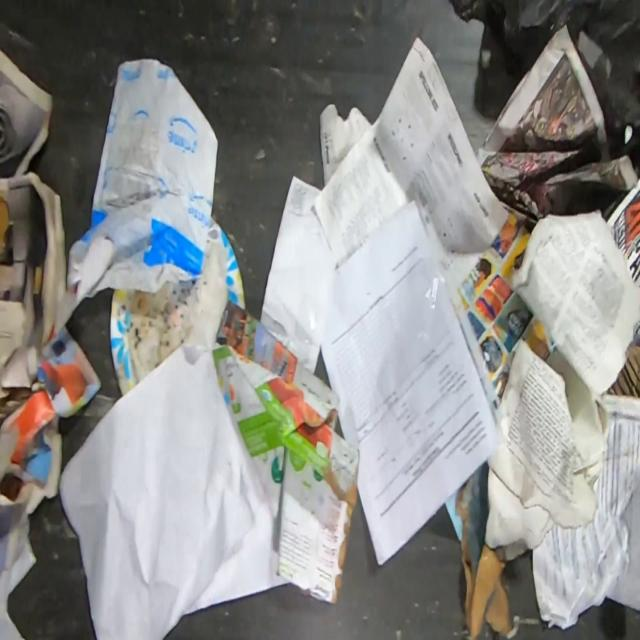cardboard: (211, 298, 362, 605), (444, 459, 513, 640)
soft_plastic: (320, 197, 511, 567), (66, 58, 218, 298), (447, 0, 640, 179)
